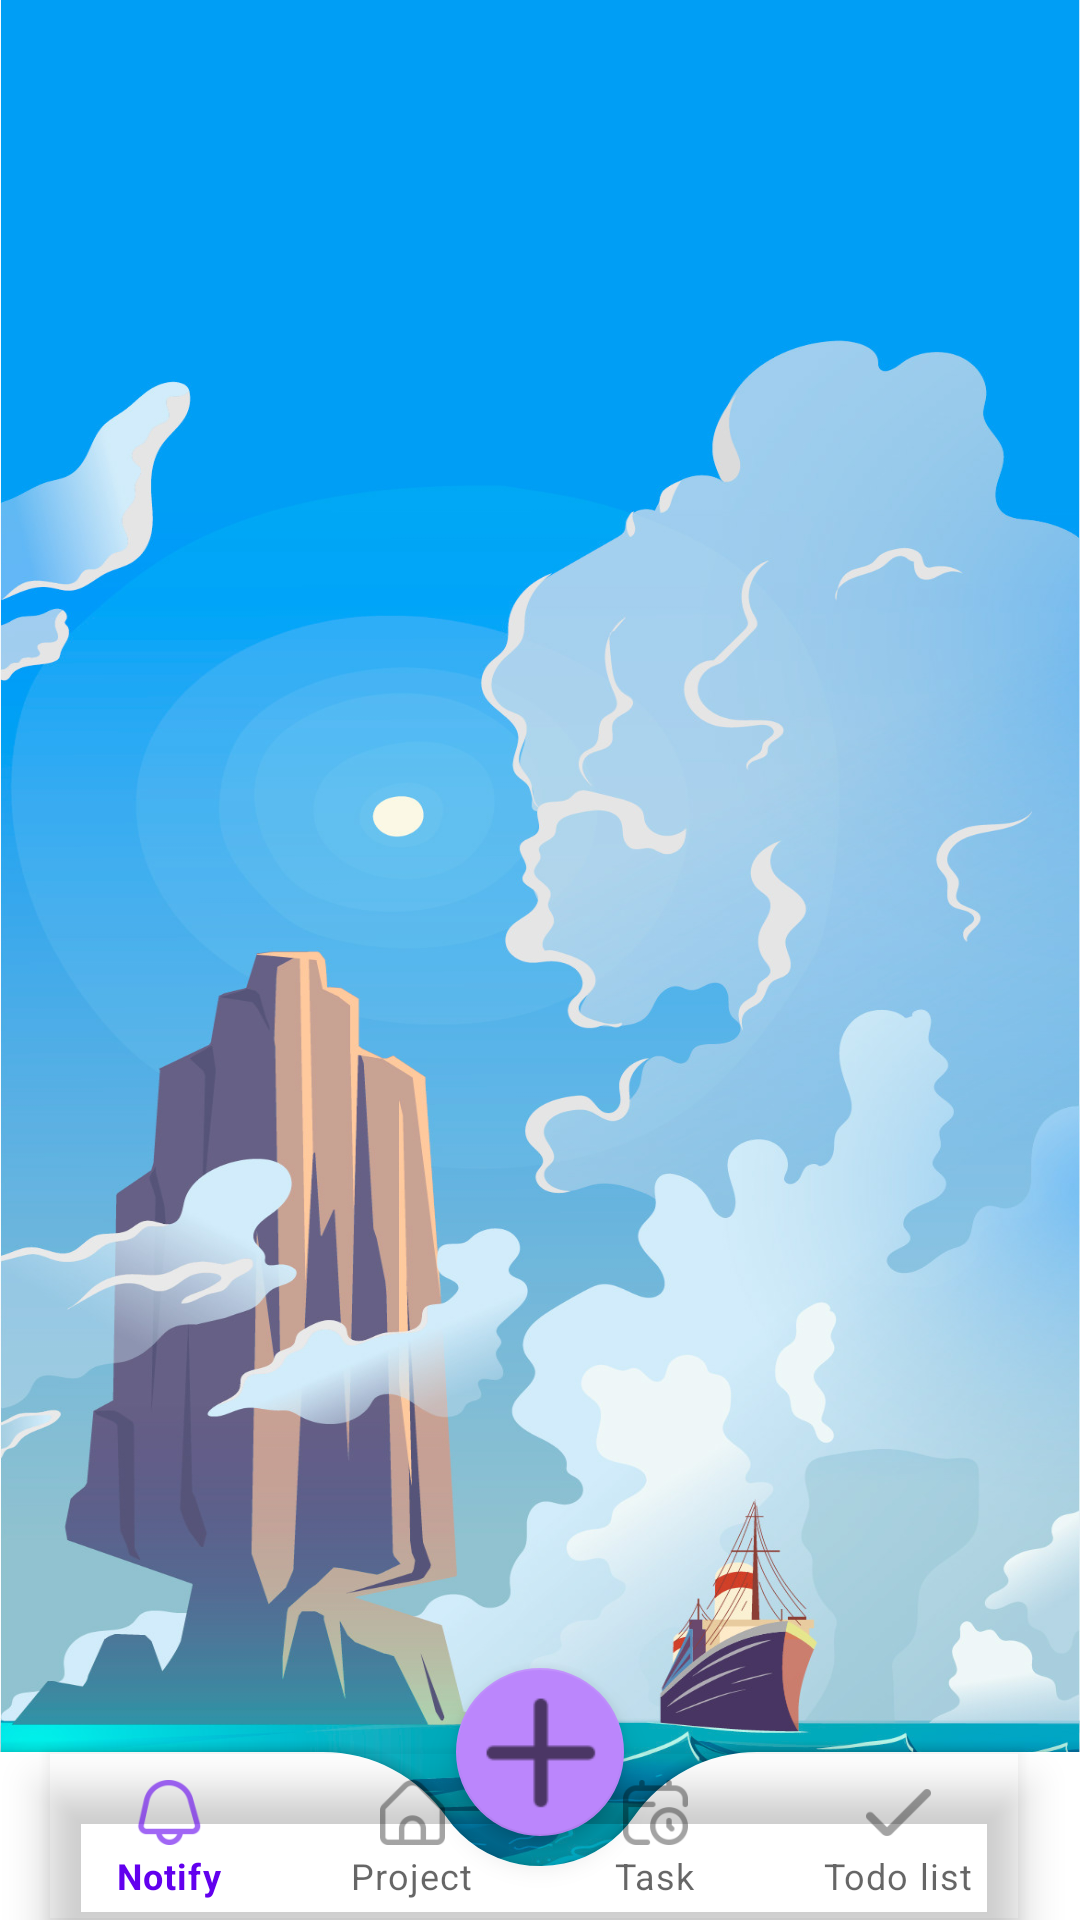

Screen size 1080px×1920px. Icon name, then its center in pixels as (x,y):
Add: (540,1752)
